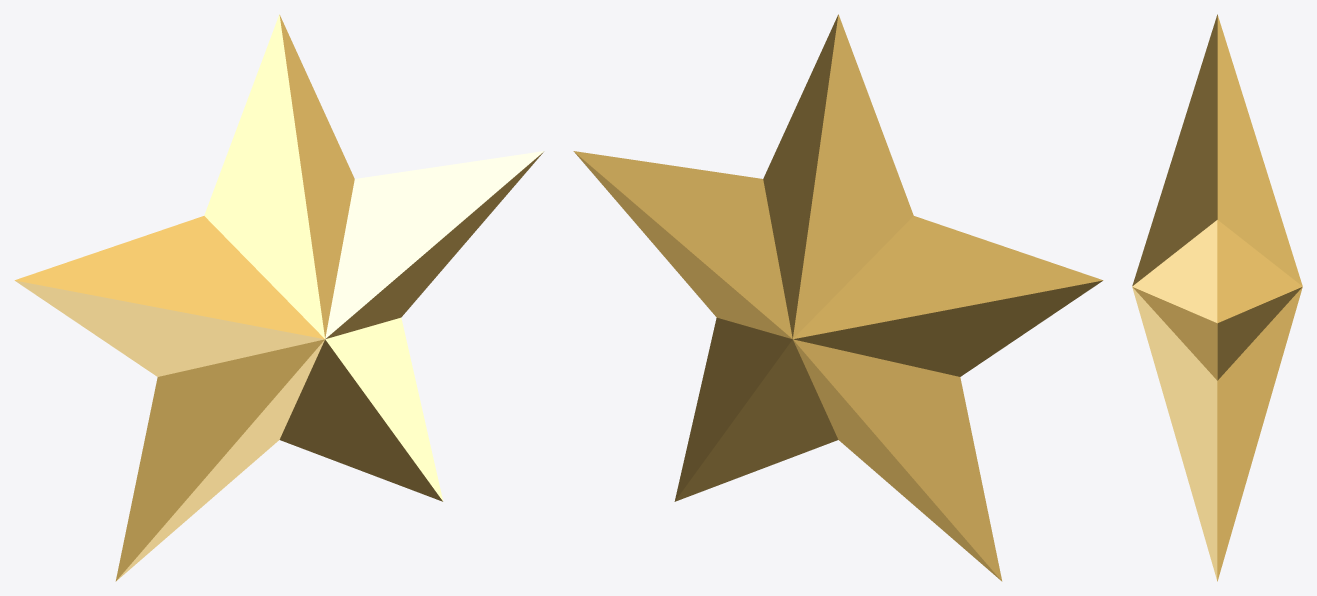
Rendered from star.glb.
3 views of the same model, side by side, from view 1: azimuth 30°, elevation 25°; view 2: azimuth 150°, elevation 25°; view 3: azimuth 270°, elevation 25° (orthographic). The views are drawn at different scales.
Parts seen in each view (by area): view 1: Prop_star; view 2: Prop_star; view 3: Prop_star.
Boxes of the visible parts, x1=… form: Prop_star: x1=14, y1=14, x2=544, y2=581; Prop_star: x1=573, y1=14, x2=1103, y2=581; Prop_star: x1=1132, y1=14, x2=1302, y2=581.
Bounding box in the file's own units: 0.7038 × 0.6693 × 0.21.
